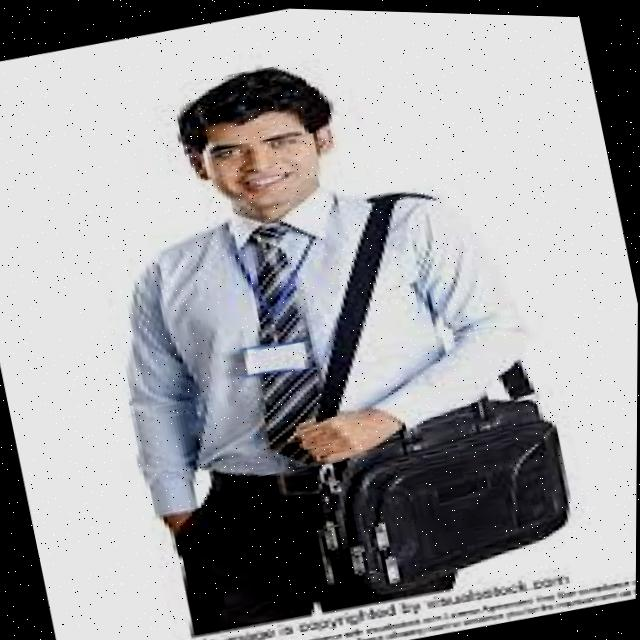id_card: (206, 198, 341, 383)
